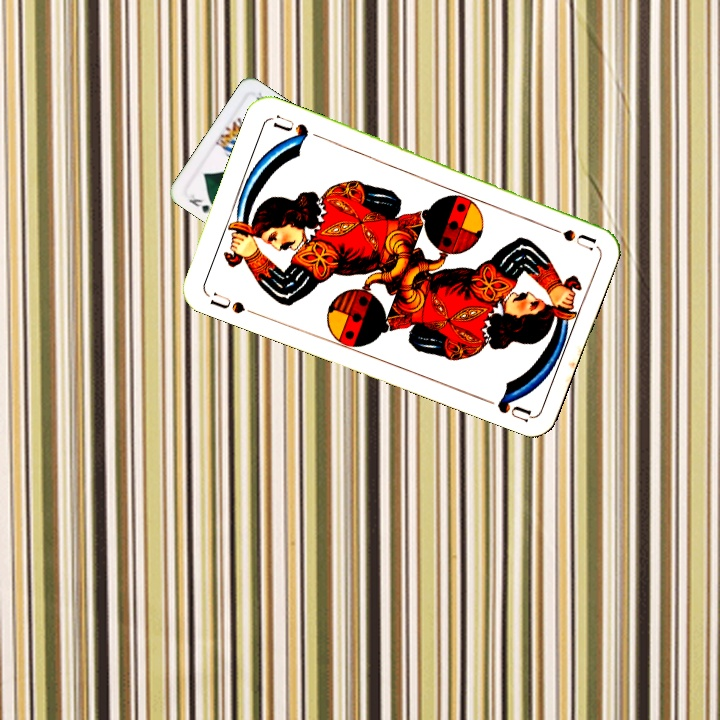GK: (185, 190, 215, 217)
SU: (539, 220, 598, 253), (203, 288, 248, 317)
